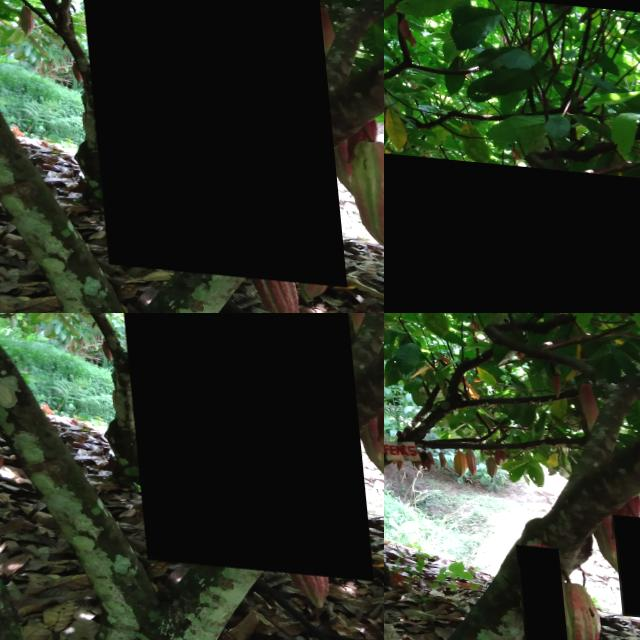Monilia: (106, 313, 363, 572)
Sana: (69, 0, 337, 278), (384, 143, 640, 313), (508, 538, 559, 639), (606, 505, 640, 609), (552, 574, 595, 640), (562, 377, 597, 418), (507, 625, 551, 640), (446, 446, 463, 470), (478, 449, 493, 472), (459, 444, 471, 467)
